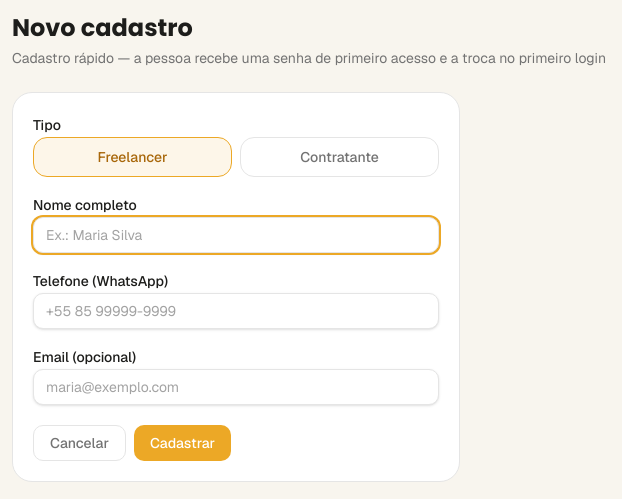
Test: Novo cadastro (consultor) — Freela em Casa encerrado › mostra a senha que a API gerou (aleatória), nunca uma fixa
The image size is (622, 499).
Step 1. Type "Maria" into the field labelled "Nome completo" → (236, 235), box left=33, top=217, right=439, bottom=253
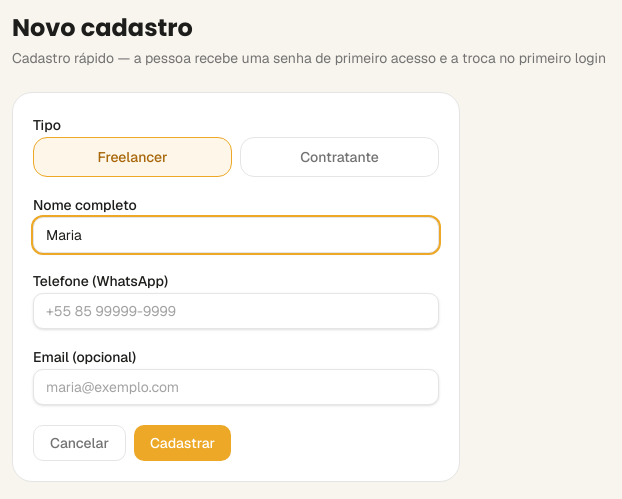
Step 2. Type "85 99999-7777" into the field labelled "Telefone (WhatsApp)" → (236, 311), box left=33, top=293, right=439, bottom=329
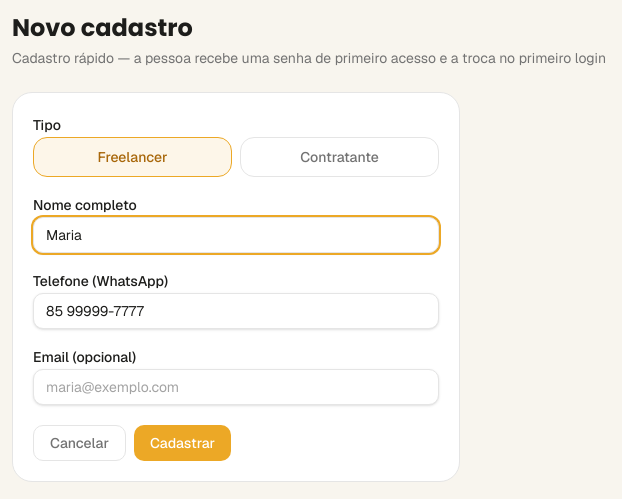
Step 3. Click the button "Cadastrar" → (182, 443), box left=134, top=425, right=231, bottom=461
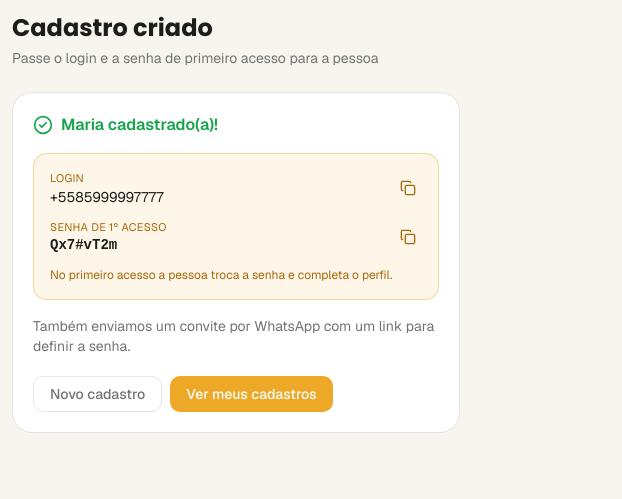
Check: the text "Qx7#vT2m" is shown, box left=50, top=237, right=117, bottom=253
